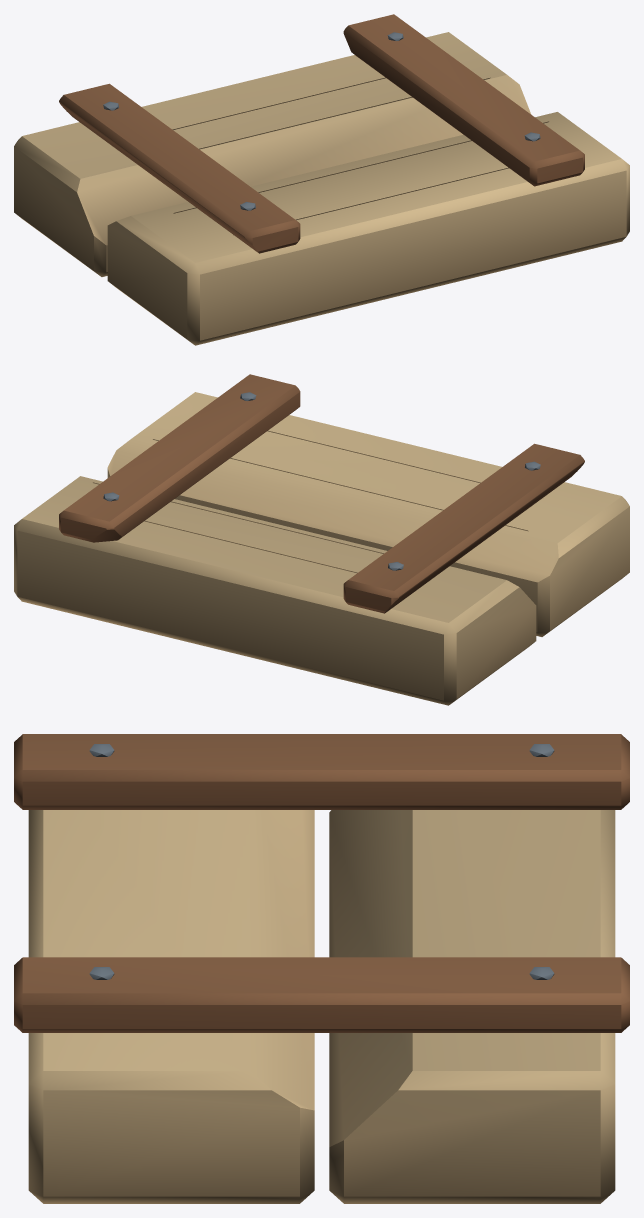
File: ruins-pc-wood.glb
3 renders of one model, top to bottom at view 1: azimuth 30°, elevation 25°; view 2: azimuth 150°, elevation 25°; view 3: azimuth 270°, elevation 25°, orthographic. The views are drawn at different scales.
Visible parts, largest first — view 1: 0_ruins_pc_wood; view 2: 0_ruins_pc_wood; view 3: 0_ruins_pc_wood.
Part boxes in pixels (x1=…): 0_ruins_pc_wood: x1=14, y1=14, x2=629, y2=345; 0_ruins_pc_wood: x1=14, y1=374, x2=629, y2=705; 0_ruins_pc_wood: x1=14, y1=734, x2=629, y2=1203.
Size of the model in its own units: 0.56 by 0.137 by 0.42.
